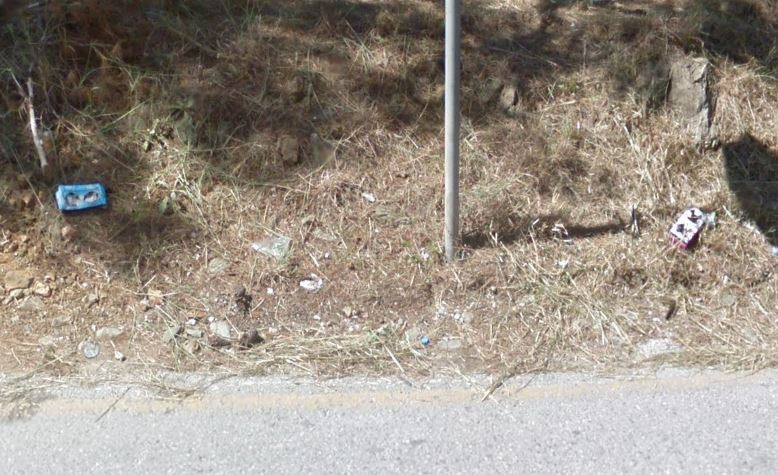trash: (661, 197, 724, 258), (40, 174, 113, 218)
